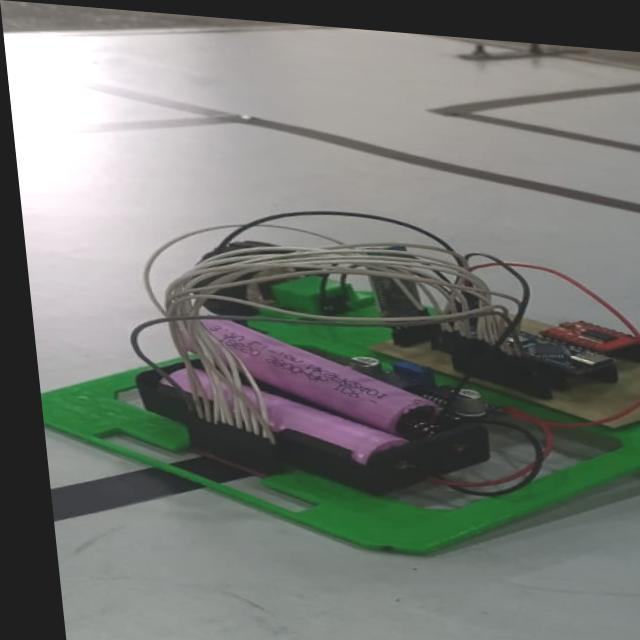vehicle: (29, 184, 640, 565)
